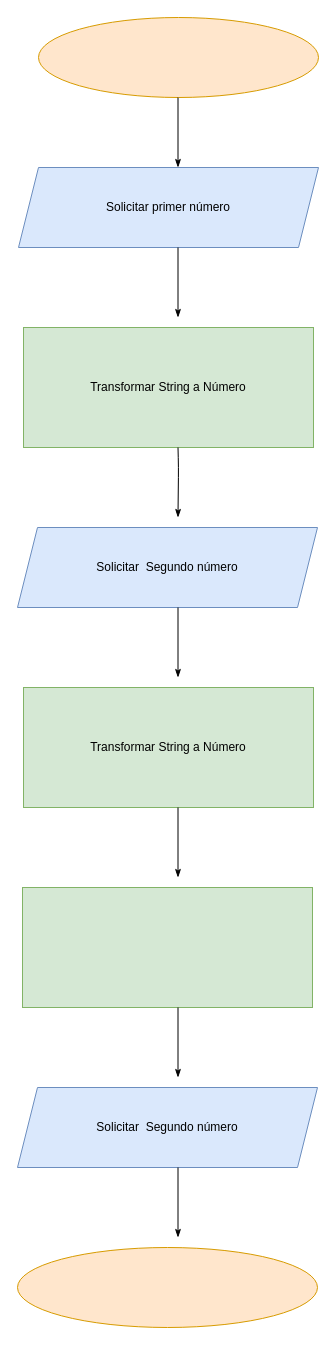
The diagram is 336 pixels wide and 1345 high, and some of its shapes have lost their labels. The box of each missing label's shape, as (x1, y1, x2, y2) in pixels:
Fin Ejercicio 1: (16, 1246, 318, 1328)
Inicio Ejercicio: (38, 16, 318, 98)
Num1 + Num2 Num1 - Num2 Num1 * Num2 Num1 / Num2 Num1 % Num2: (22, 886, 312, 1008)
